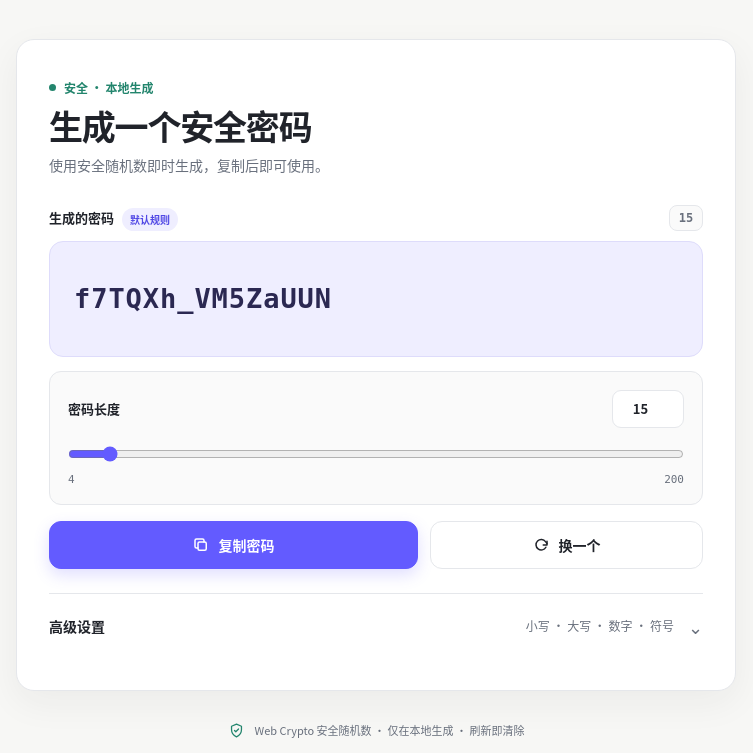
Test case: App › does not persist passwords or make application network requests
This screenshot has width=753, height=753.
Click the button "换一个". click: {"x": 566, "y": 545}
box: x1=430 y1=521 x2=703 y2=569
(page scrolled)
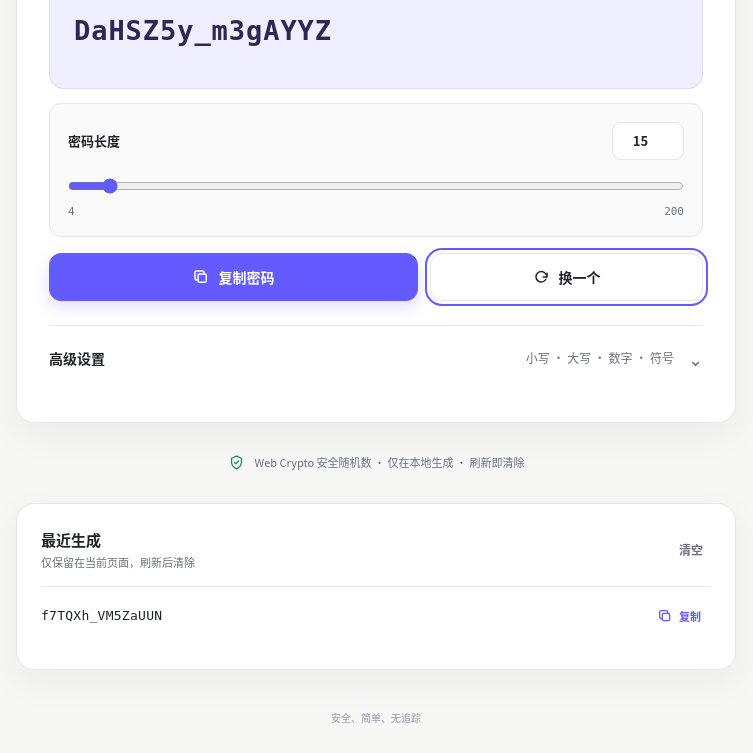
Now the element "最近生成" is shown, box x1=16 y1=503 x2=736 y2=670
